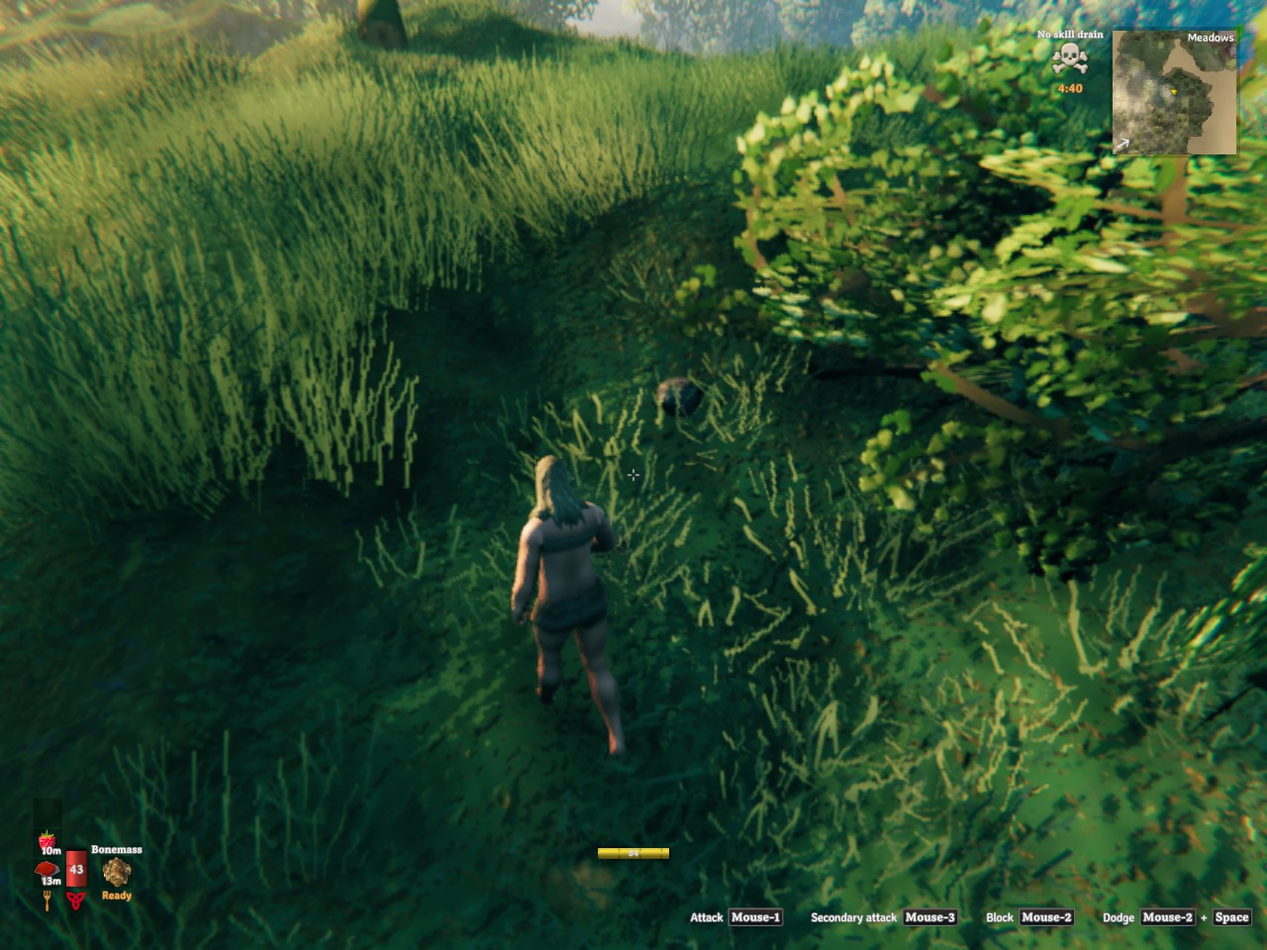Stone: (656, 376, 703, 415)
